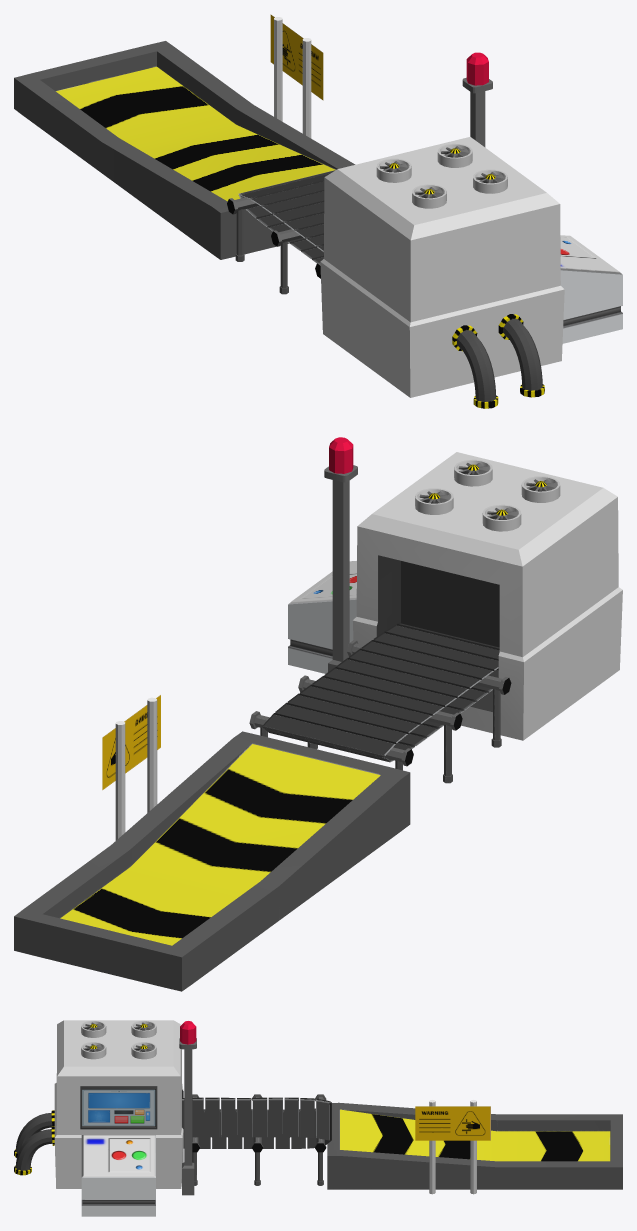
The model's file is Warehouse.dae.
3 views of the same model, one above another, from view 1: azimuth 30°, elevation 25°; view 2: azimuth 150°, elevation 25°; view 3: azimuth 270°, elevation 25° (orthographic). The views are drawn at different scales.
Visible parts, largest first — view 1: Main Component, Misc Component, Light Component; view 2: Main Component, Misc Component, Light Component; view 3: Main Component, Misc Component, Light Component.
Part boxes in pixels (x1,y1,x2,y2): Main Component: (14, 41, 622, 397); Misc Component: (270, 14, 544, 408); Light Component: (466, 52, 488, 85); Main Component: (14, 452, 622, 991); Misc Component: (102, 459, 560, 840); Light Component: (329, 437, 353, 473); Main Component: (54, 1020, 622, 1216); Misc Component: (14, 1020, 490, 1195); Light Component: (180, 1021, 196, 1044).
Size of the model in its own units: 3.04 by 9.66 by 2.98.
